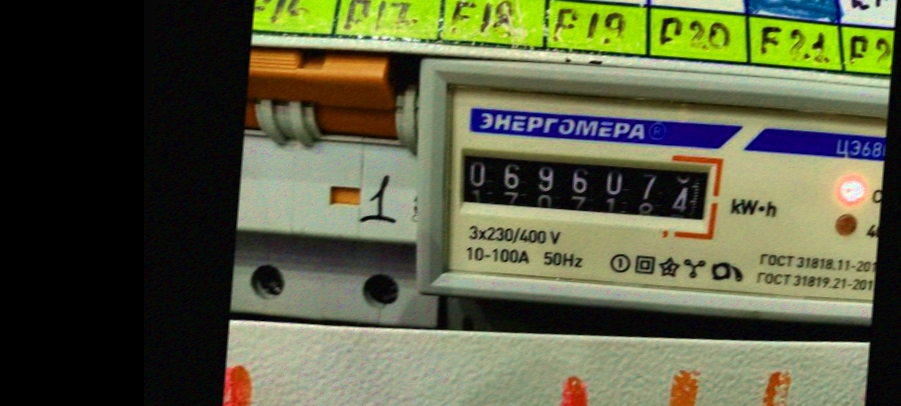0: (468, 157, 489, 187), (603, 166, 624, 195)
4: (670, 184, 690, 213)
6: (570, 164, 591, 193), (502, 160, 522, 189)
7: (638, 169, 659, 200)
9: (535, 163, 556, 192)
screen: (444, 132, 729, 241)
